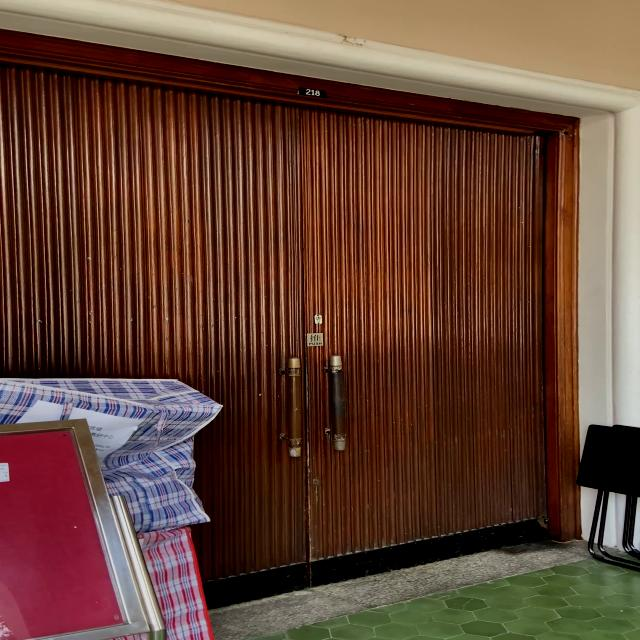room218: (296, 86, 328, 99)
